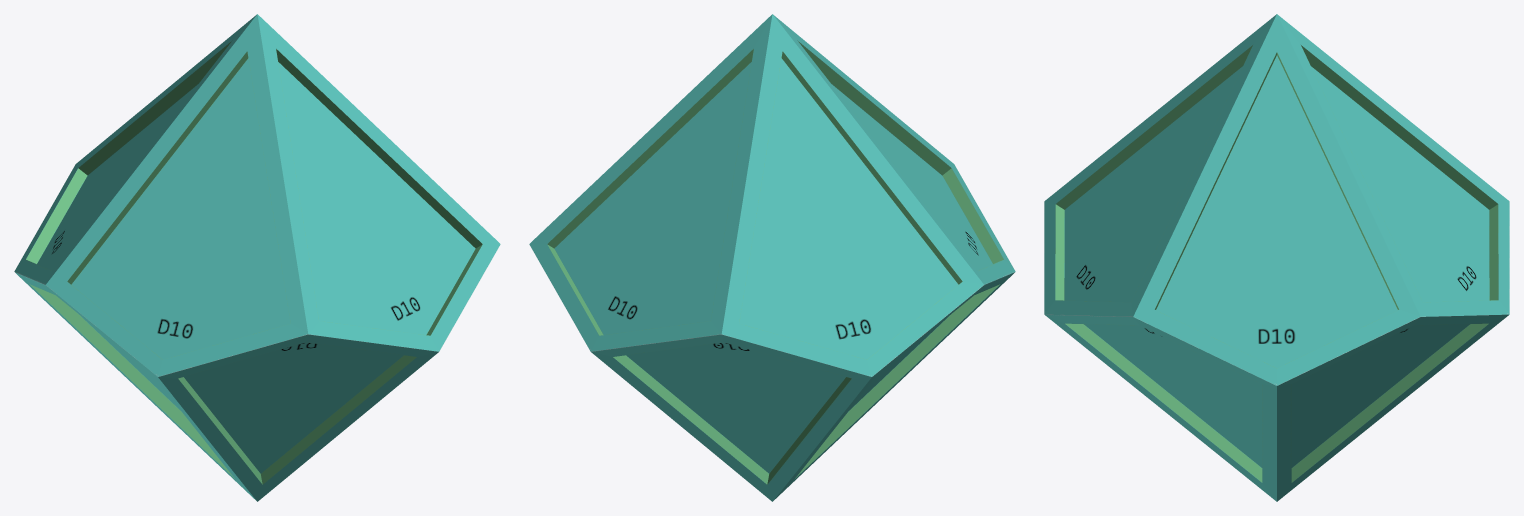
The model's file is D10Complex.obj.
3 views of the same model, side by side, from view 1: azimuth 30°, elevation 25°; view 2: azimuth 150°, elevation 25°; view 3: azimuth 270°, elevation 25° (orthographic).
Visible parts, largest first — view 1: D10Complex; view 2: D10Complex; view 3: D10Complex.
Part boxes in pixels (x1=…): D10Complex: x1=14, y1=14, x2=500, y2=501; D10Complex: x1=529, y1=14, x2=1015, y2=501; D10Complex: x1=1044, y1=14, x2=1509, y2=501.
Size of the model in its own units: 2.86 by 3.15 by 2.72.
1 material, 1 textured.
